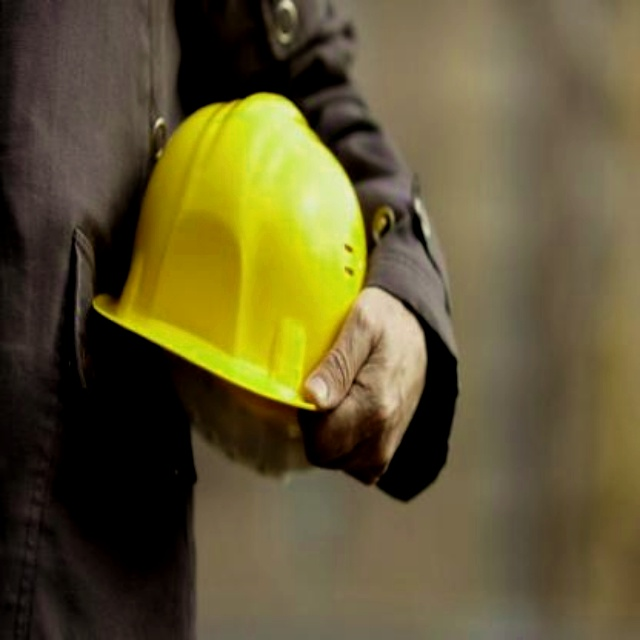yellow-helm: (80, 79, 369, 447)
